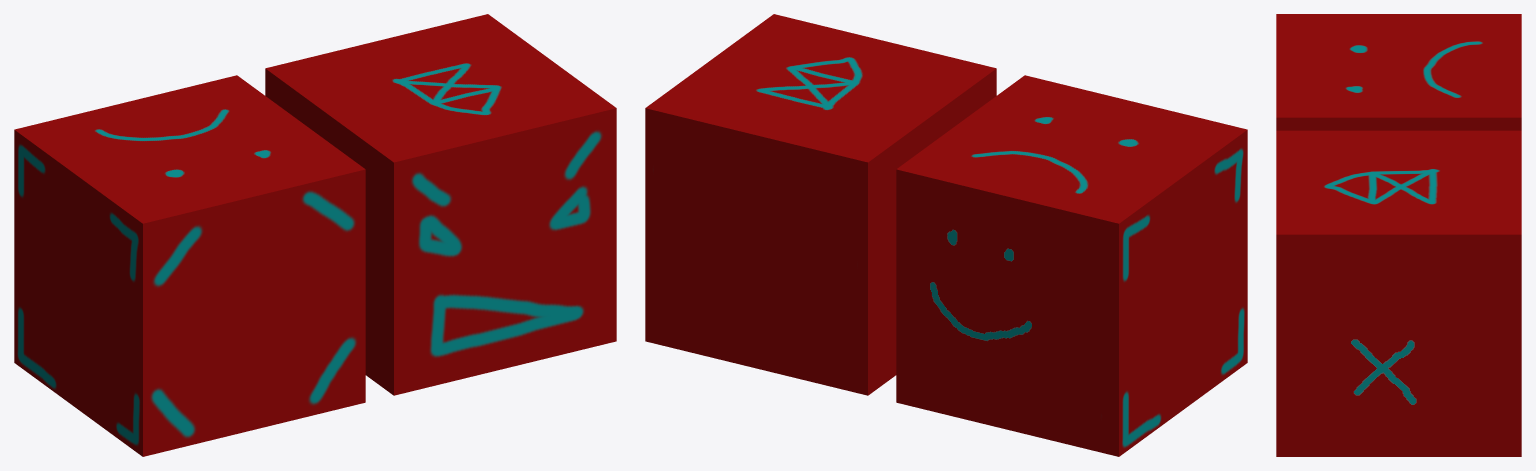
File: cubes_pbr.gltf
The picture shows the model from 3 angles, left to right: view 1: azimuth 30°, elevation 25°; view 2: azimuth 150°, elevation 25°; view 3: azimuth 270°, elevation 25°; orthographic projection. The views are drawn at different scales.
Visible parts, largest first — view 1: Cube; view 2: Cube; view 3: Cube.
Part boxes in pixels (box(x1,y1,x2,y2)): Cube: box(14, 14, 616, 456); Cube: box(645, 14, 1247, 456); Cube: box(1276, 14, 1521, 456).
Size of the model in its own units: 4.25 by 2 by 2.
Materials: 2 (2 with a texture image).
